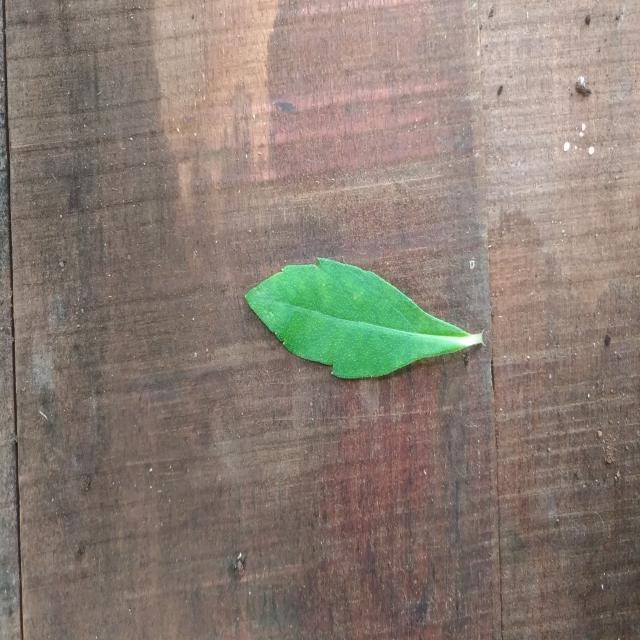bringaraja: (246, 258, 482, 378)
